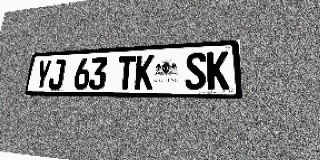3: (88, 57, 108, 90)
6: (73, 58, 92, 90)
J: (48, 59, 66, 90)
K: (207, 51, 230, 90), (134, 55, 154, 90)
S: (185, 52, 206, 90)
T: (116, 55, 136, 90)
Y: (34, 60, 52, 89)
